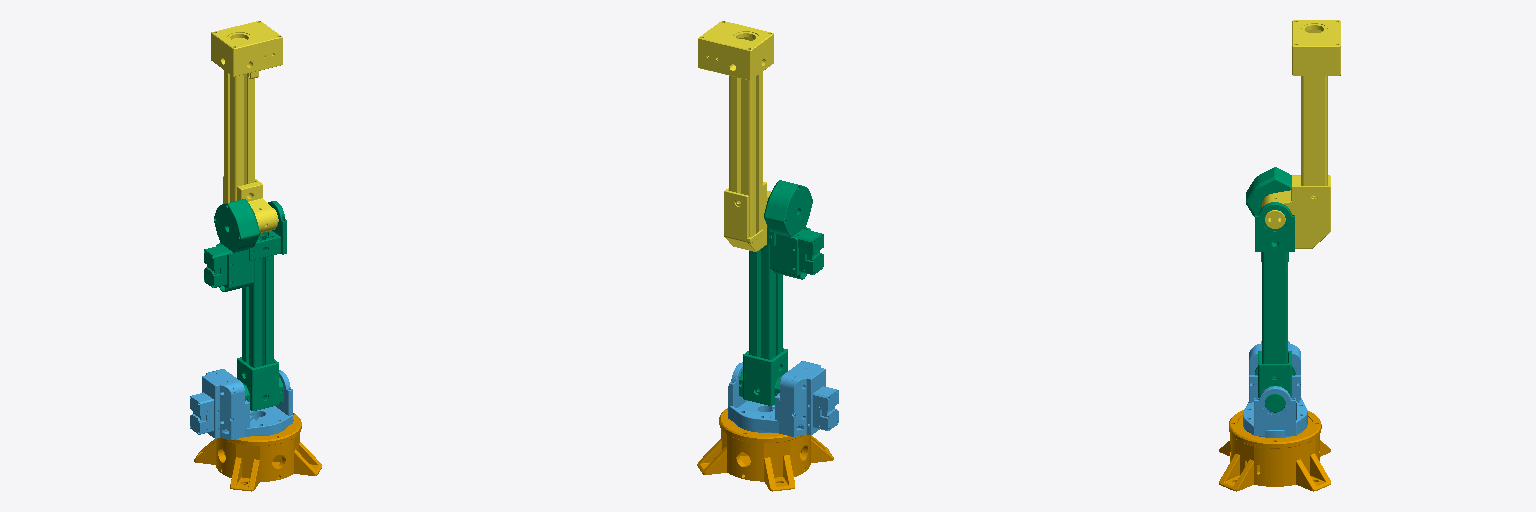
The robot description file, URDF, robot "manuel1":
<?xml version="1.0" ?>
<robot name="manuel1">

  <link name="base_link">
    <visual>
        <geometry>
            <mesh filename="visual_links/base_visual.stl" scale="0.001 0.001 0.001"/>
        </geometry>
    </visual>
    <collision>
        <geometry>
            <mesh filename="collision_links/base_collision.stl" scale="0.001 0.001 0.001"/>
        </geometry>
    </collision>
  </link>

  <joint name="waist_joint" type="revolute">
    <parent link="base_link"/>
    <child link="shoulder_link"/>
    <origin rpy="0.0 0.0 0.0" xyz="0.0 0.0 0"/>
    <axis xyz="0 0 1"/>
    <limit lower="-3.14159265" upper="3.14159265"/>
  </joint>

  <link name="shoulder_link">
    <visual>
        <geometry>
            <mesh filename="visual_links/shoulder_visual.stl" scale="0.001 0.001 0.001"/>
        </geometry>
    </visual>
    <collision>
        <geometry>
            <mesh filename="collision_links/shoulder_collision.stl" scale="0.001 0.001 0.001"/>
        </geometry>
    </collision>
  </link>

  <joint name="shoulder_joint" type="revolute">
    <parent link="shoulder_link"/>
    <child link="upper_arm_link"/>
    <origin rpy="0.0 0.0 0.0" xyz="0.0 0.0 0.1307"/>
    <axis xyz="1 0 0"/>
    <limit lower="-3.14159265" upper="3.14159265"/>
  </joint>

  <link name="upper_arm_link">
    <visual>
        <origin xyz="0 0 -0.1307" rpy="0 0 0" />
        <geometry>
            <mesh filename="visual_links/upper_arm_visual.stl" scale="0.001 0.001 0.001"/>
        </geometry>
    </visual>
    <collision>
        <origin xyz="0 0 -0.1307" rpy="0 0 0" />
        <geometry>
            <mesh filename="collision_links/upper_arm_collision.stl" scale="0.001 0.001 0.001"/>
        </geometry>
    </collision>
  </link>

  <joint name="elbow_joint" type="revolute">
    <parent link="upper_arm_link"/>
    <child link="forearm_link"/>
    <origin rpy="0.0 0.0 0.0" xyz="0.0 0.0 0.305"/>
    <axis xyz="1 0 0"/>
    <limit lower="-3.14159265" upper="3.14159265"/>
  </joint>

  <link name="forearm_link">
    <visual>
        <origin xyz="0 0 -0.4357" rpy="0 0 0" />
        <geometry>
            <mesh filename="visual_links/forearm_visual.stl" scale="0.001 0.001 0.001"/>
        </geometry>
    </visual>
    <collision>
        <origin xyz="0 0 -0.4357" rpy="0 0 0" />
        <geometry>
            <mesh filename="collision_links/forearm_collision.stl" scale="0.001 0.001 0.001"/>
        </geometry>
    </collision>
  </link>
</robot>

--- What the picture shows (computed from the rendered views, not written in the file) ---
The picture shows the robot from 3 angles, left to right: view 1: azimuth 30°, elevation 25°; view 2: azimuth 150°, elevation 25°; view 3: azimuth 270°, elevation 25°; orthographic projection.
Model manuel1 with 4 links and 3 joints (3 revolute), rooted at base_link, posed all joints at 0.
Visible links, largest first — view 1: upper_arm_link, forearm_link, base_link, shoulder_link; view 2: forearm_link, upper_arm_link, base_link, shoulder_link; view 3: forearm_link, upper_arm_link, base_link, shoulder_link.
Boxes of the visible links, left/top/right/bottom form: upper_arm_link: left=204, top=199, right=286, bottom=410; forearm_link: left=211, top=21, right=282, bottom=232; base_link: left=194, top=413, right=321, bottom=491; shoulder_link: left=190, top=369, right=292, bottom=439; forearm_link: left=698, top=21, right=773, bottom=251; upper_arm_link: left=739, top=180, right=823, bottom=405; base_link: left=697, top=408, right=833, bottom=491; shoulder_link: left=728, top=361, right=838, bottom=436; forearm_link: left=1262, top=20, right=1340, bottom=248; upper_arm_link: left=1246, top=167, right=1295, bottom=412; base_link: left=1219, top=409, right=1330, bottom=491; shoulder_link: left=1243, top=341, right=1307, bottom=437.
Bounding box of the posed robot: 0.2044 × 0.1859 × 0.7407 m (x, y, z).
4 mesh visuals loaded from 4 distinct referenced files (4 binary STL).
